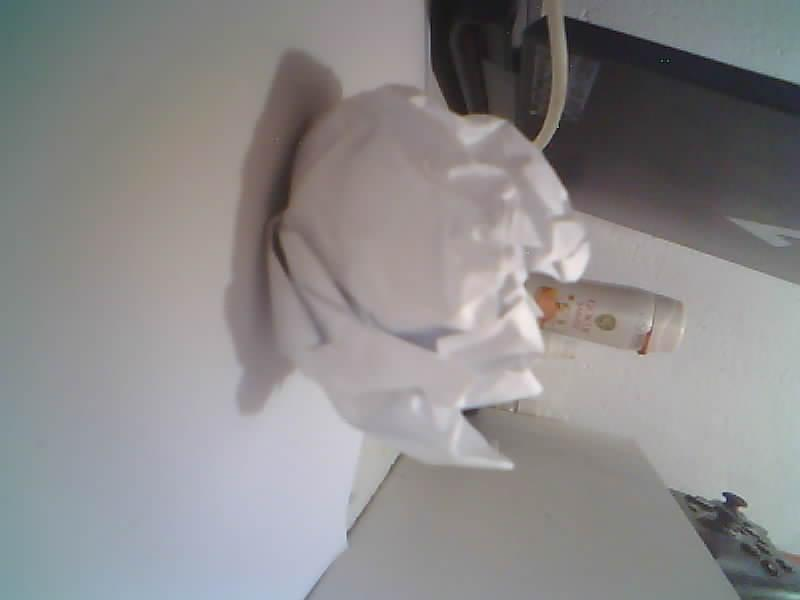biodegradable: (268, 85, 589, 468)
